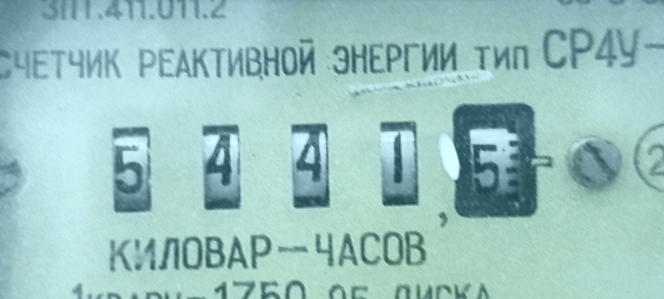1: (383, 130, 408, 189)
4: (289, 125, 327, 191), (200, 129, 237, 191)
5: (467, 138, 503, 201), (108, 141, 147, 199)
screen: (85, 75, 561, 248)
